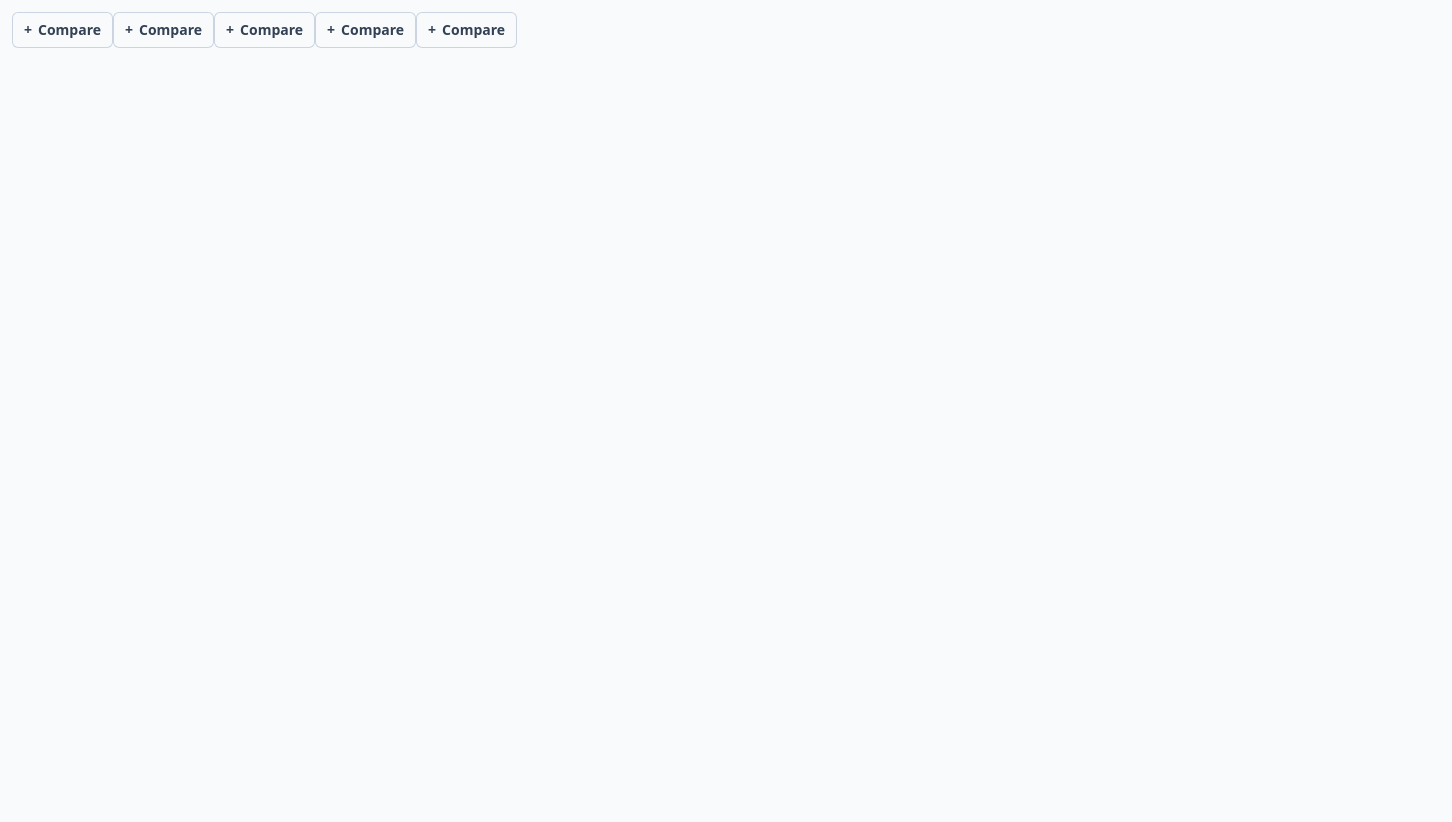
it: AddToCompareButton › surfaces a global notification when an add is rejected at capacity (FR-621)
The width and height of the screenshot is (1452, 822).
Click the 1st button "+ Compare" at (62, 30), box [12,12,113,48]
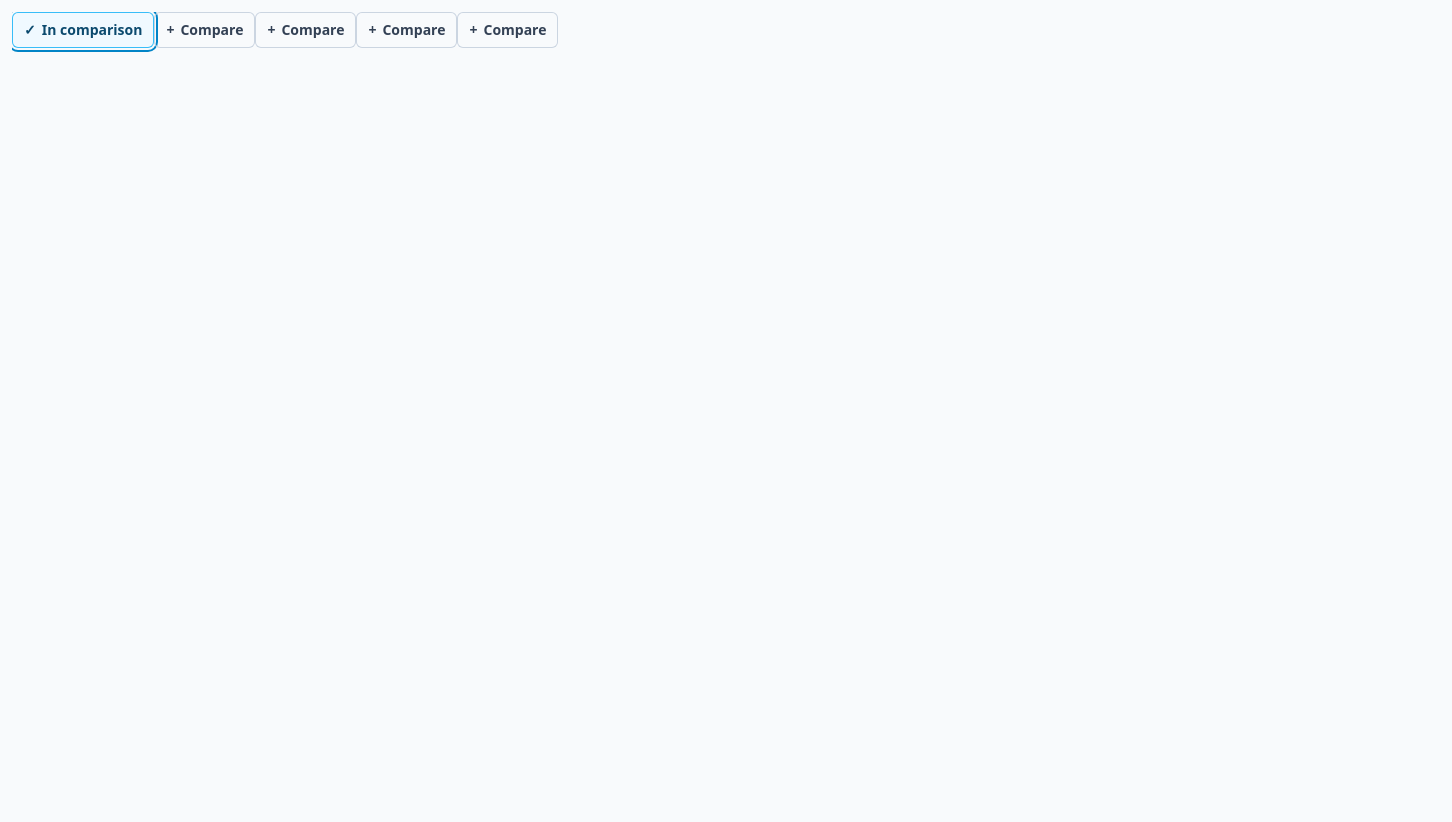
Click the 1st button "+ Compare" at (205, 30), box [154,12,255,48]
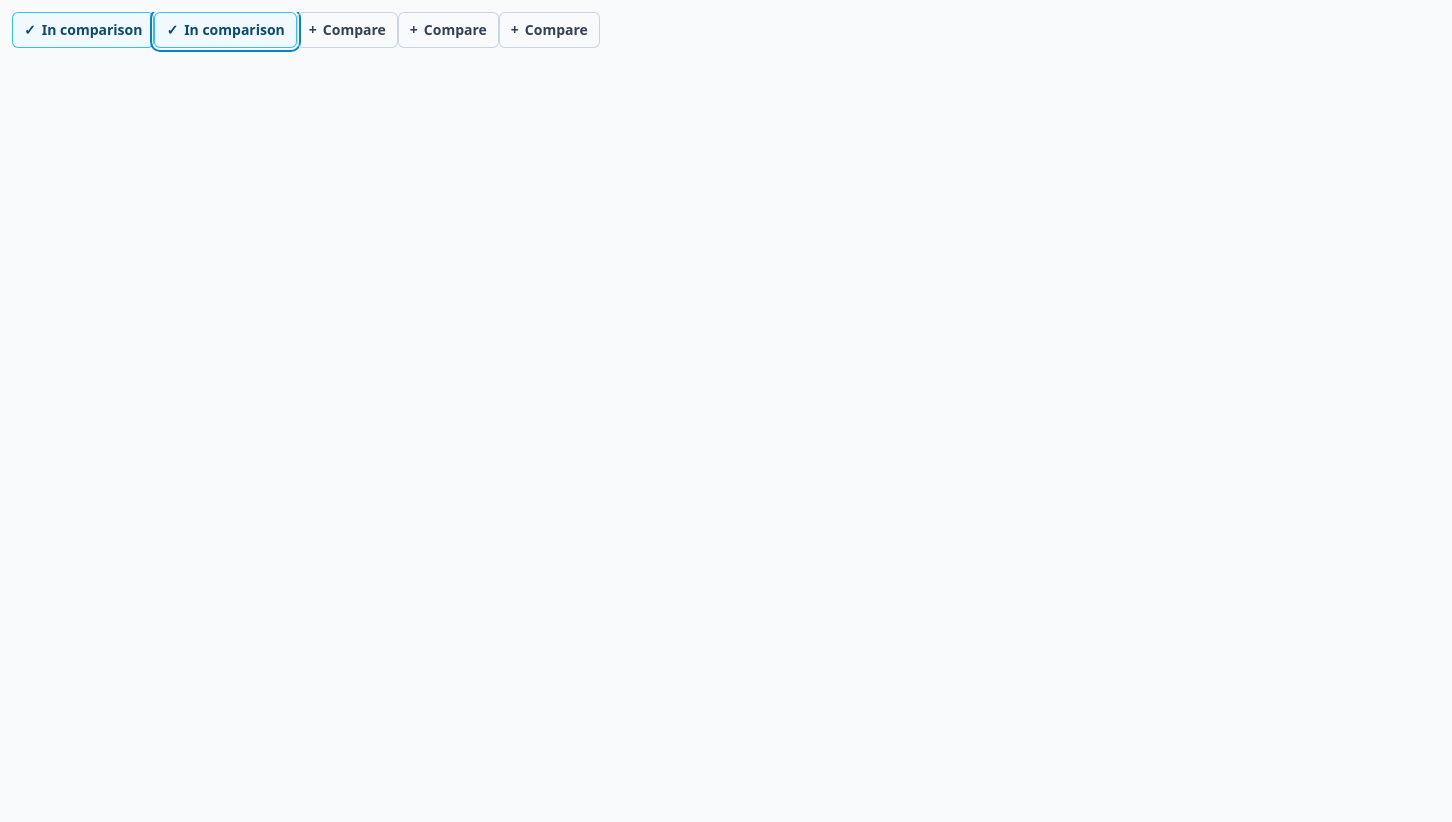
Click the 1st button "+ Compare" at (347, 30), box [297,12,398,48]
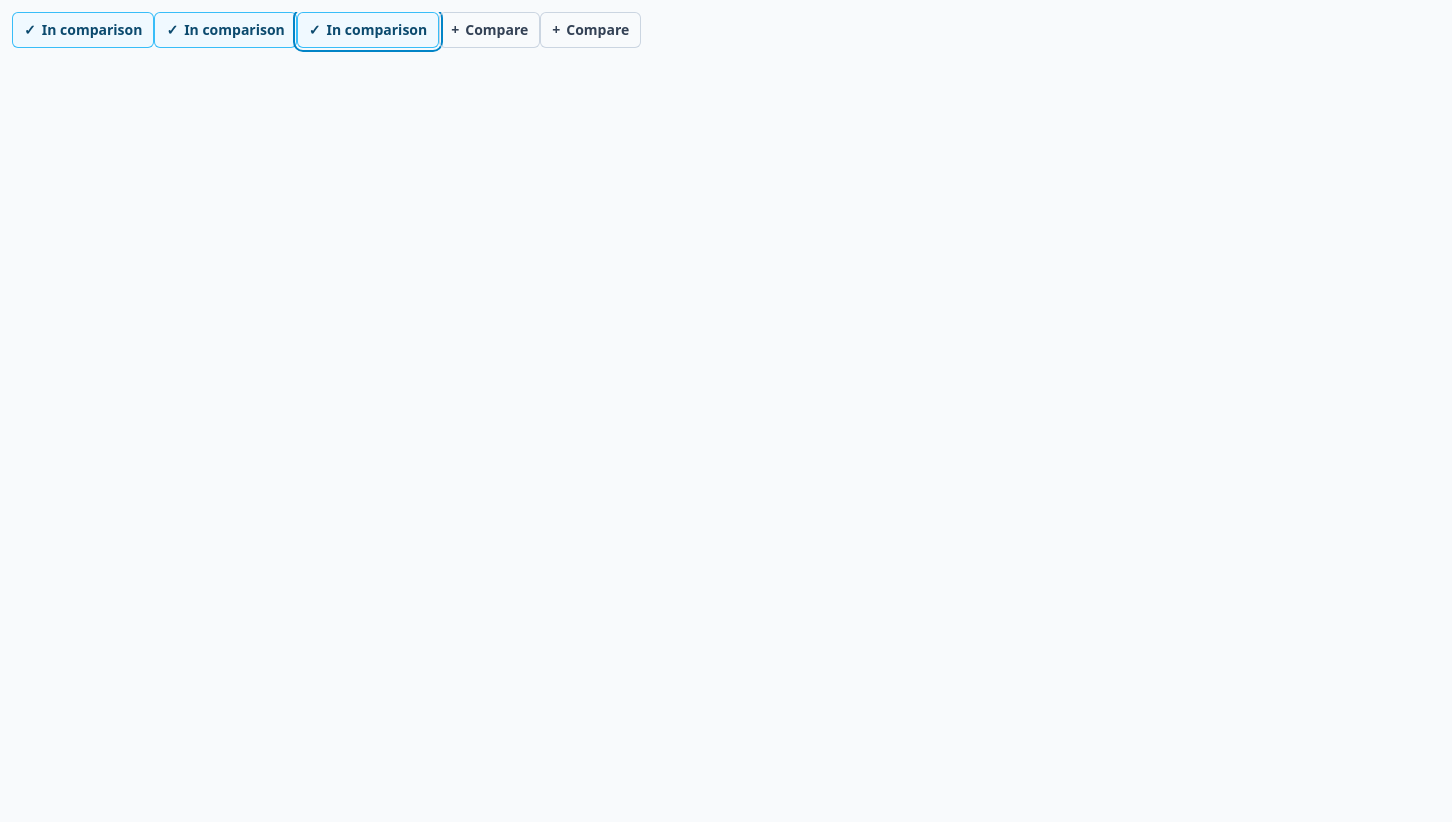
Click the 1st button "+ Compare" at (490, 30), box [439,12,540,48]
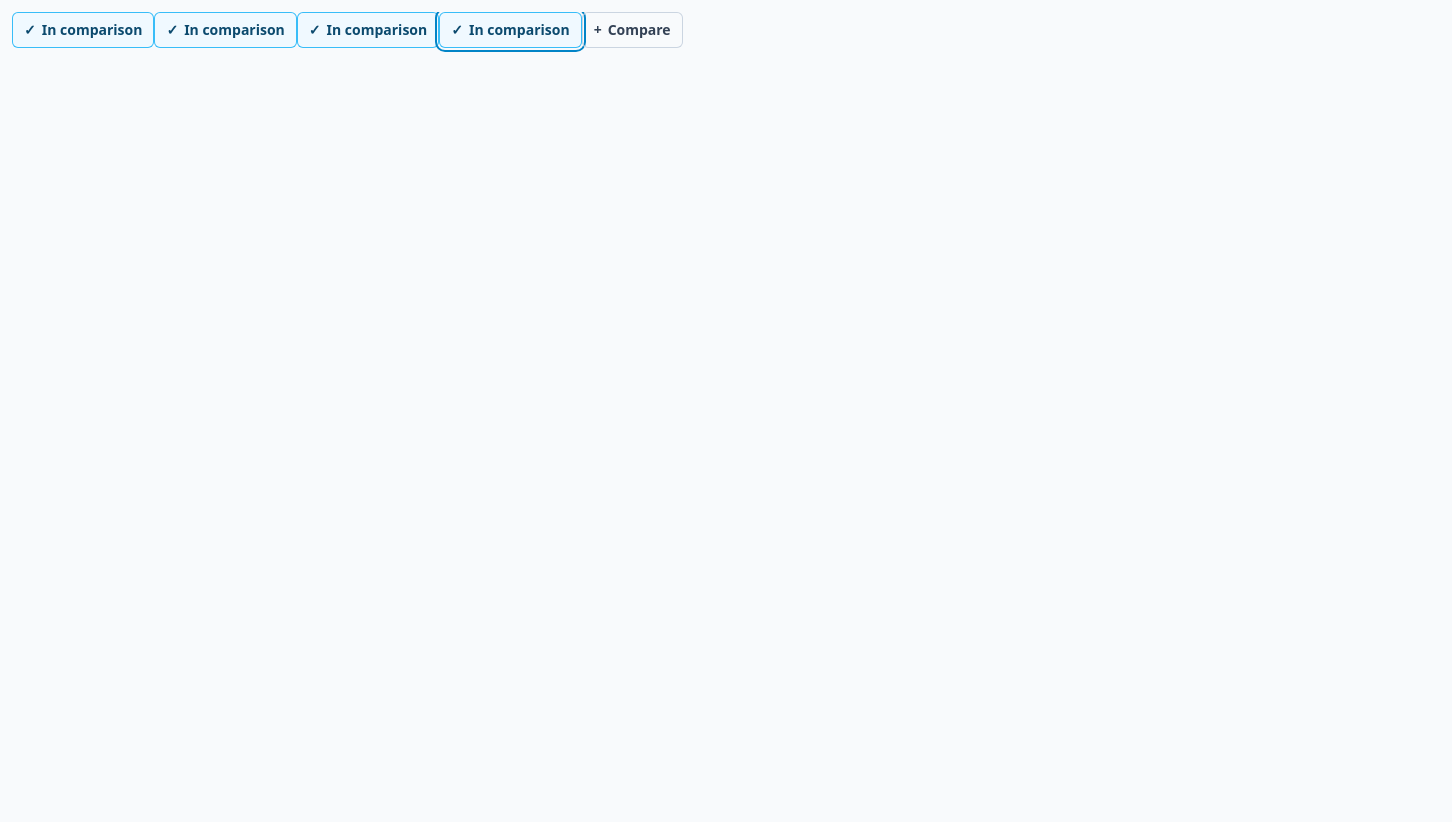
Click the button with aria-label "cannot add data analytics" at (632, 30), box [582,12,683,48]
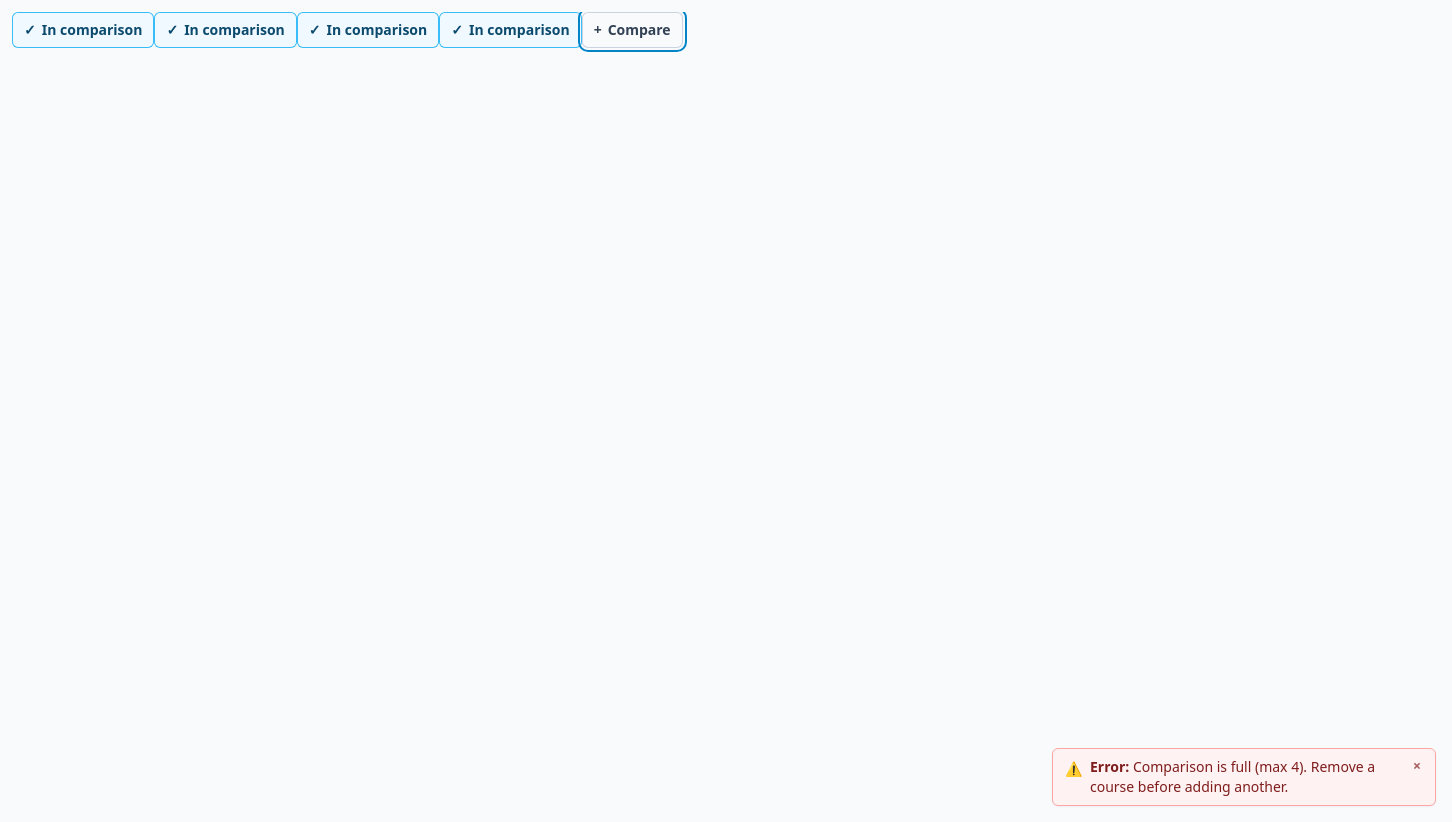
Expected: the message with test id "notification-region-assertive" shows "Error:", [1052,748,1436,806]
